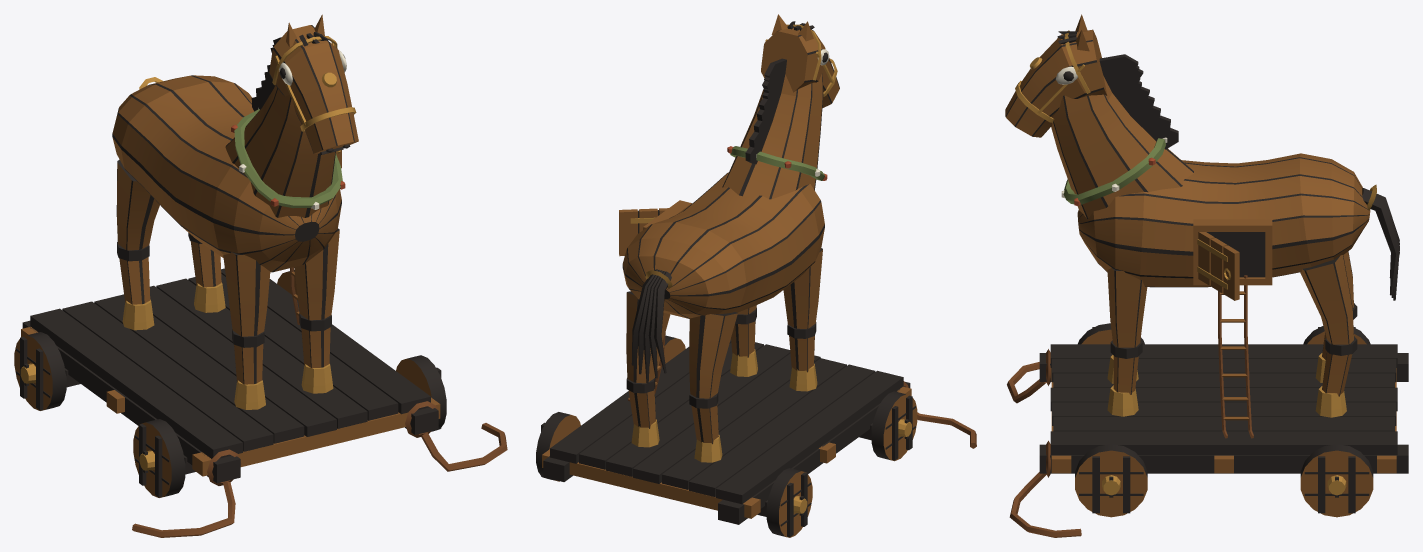
File: horse.glb
3 renders of one model, left to right at view 1: azimuth 30°, elevation 25°; view 2: azimuth 150°, elevation 25°; view 3: azimuth 270°, elevation 25°, orthographic. The views are drawn at different scales.
Parts seen in each view (by area): view 1: horse; view 2: horse; view 3: horse.
Part boxes in pixels (x1,y1,x2,y2): horse: (14, 14, 507, 537); horse: (536, 14, 976, 537); horse: (1005, 14, 1408, 537).
Size of the model in its own units: 1.9 by 2.2 by 1.86.
